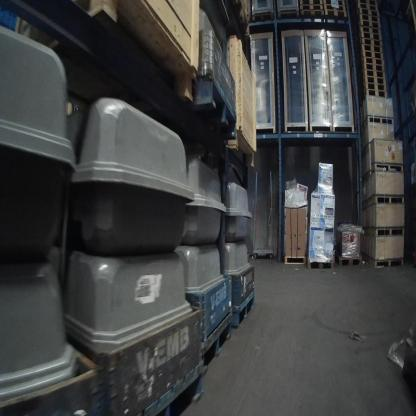pallet: (137, 356, 203, 416), (195, 75, 237, 138), (202, 309, 232, 372), (230, 292, 255, 329), (231, 0, 250, 39), (375, 226, 404, 236), (375, 196, 405, 205), (338, 256, 362, 267), (374, 163, 403, 172), (368, 258, 403, 265), (307, 260, 334, 269), (367, 116, 394, 125), (362, 56, 384, 67), (359, 13, 380, 24), (252, 12, 275, 22), (362, 51, 384, 61), (324, 4, 346, 13), (360, 32, 382, 41), (359, 26, 381, 35), (325, 9, 346, 18), (366, 89, 387, 98), (361, 43, 382, 52), (359, 7, 379, 16), (363, 70, 385, 78), (365, 76, 386, 84), (361, 38, 382, 46), (359, 19, 380, 27), (301, 9, 324, 16), (366, 83, 386, 91), (300, 3, 322, 10), (323, 0, 345, 7), (363, 64, 384, 71), (359, 3, 378, 10), (300, 0, 322, 5), (358, 0, 377, 4)
